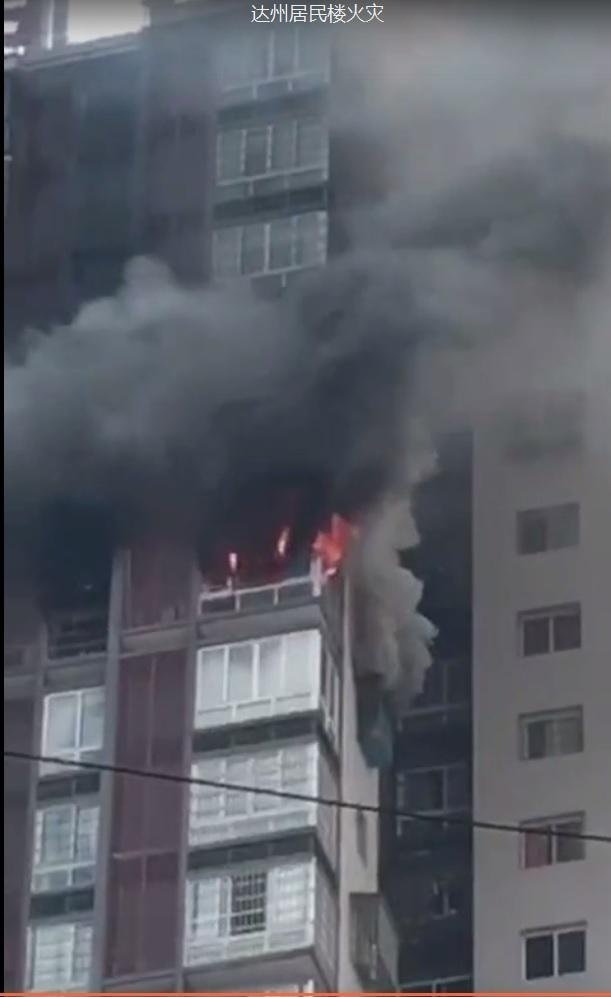fire: (286, 514, 357, 574)
